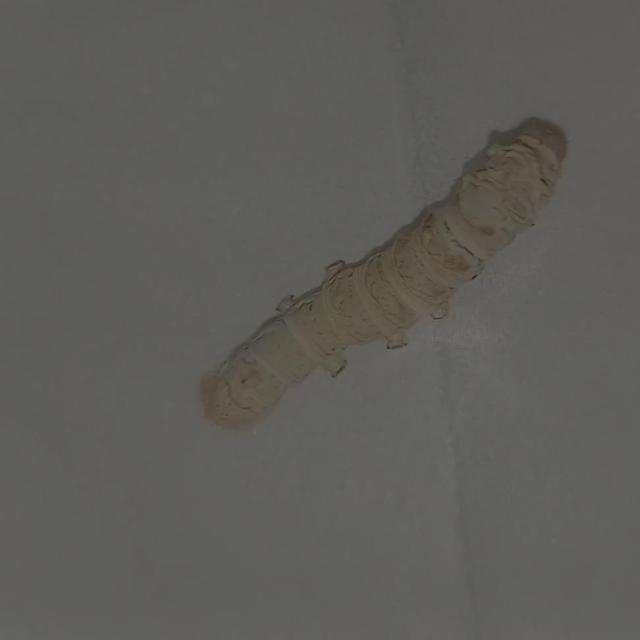Healthy: (188, 113, 576, 440)
